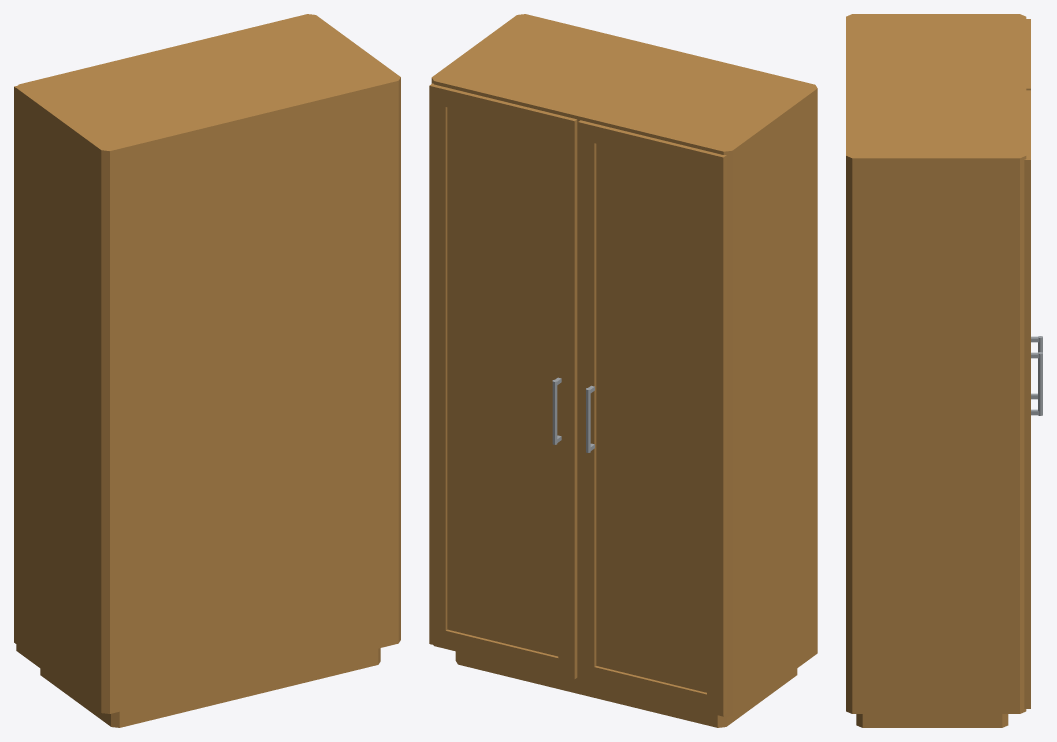
Rendered from SM_LPI_Storage_Wardrobe_01.fbx.
3 renders of one model, left to right at view 1: azimuth 30°, elevation 25°; view 2: azimuth 150°, elevation 25°; view 3: azimuth 270°, elevation 25°, orthographic.
Visible parts, largest first — view 1: SM_LPI_Storage_Wardrobe_01; view 2: SM_LPI_Storage_Wardrobe_01; view 3: SM_LPI_Storage_Wardrobe_01.
Part boxes in pixels (x1=…): SM_LPI_Storage_Wardrobe_01: x1=14, y1=14, x2=400, y2=727; SM_LPI_Storage_Wardrobe_01: x1=429, y1=14, x2=817, y2=727; SM_LPI_Storage_Wardrobe_01: x1=846, y1=14, x2=1042, y2=727.
Bounding box in the file's own units: 1.1 × 2.05 × 0.6338.
